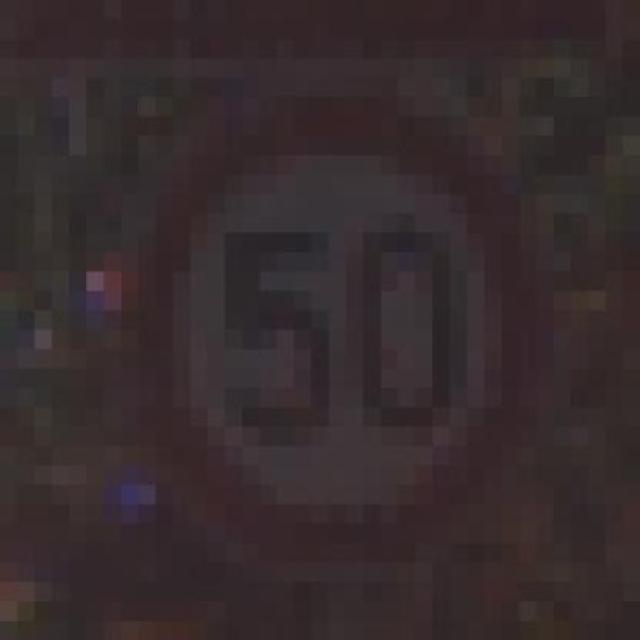forb_speed_over_50: (123, 93, 539, 552)
